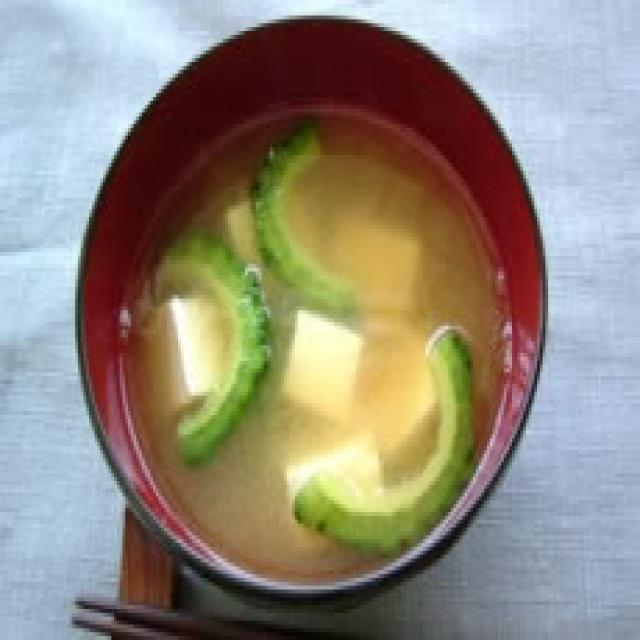汤锅炖物: (64, 0, 559, 605)
